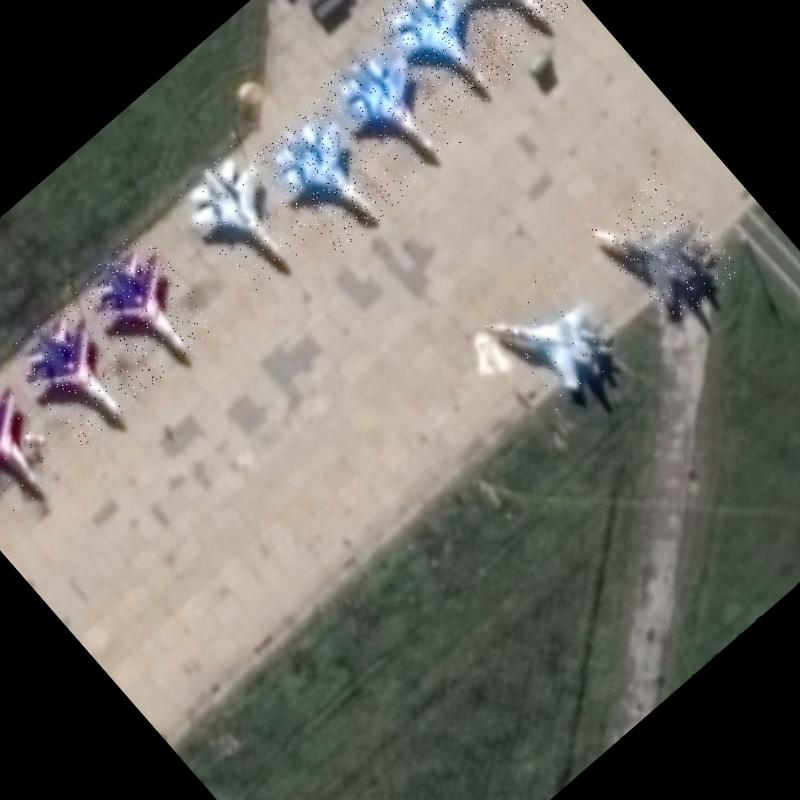A1: (314, 34, 469, 194), (253, 98, 406, 254), (169, 137, 321, 293), (70, 228, 222, 384), (482, 261, 632, 411), (3, 297, 150, 448), (368, 0, 522, 124), (0, 364, 80, 520), (430, 0, 581, 59)
A19: (588, 171, 743, 329)
